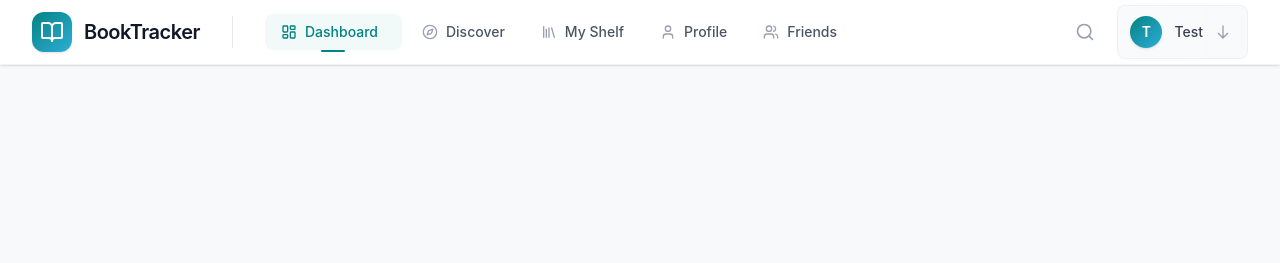
Scenario: Header › when user is authenticated › search functionality › toggles search input when search button is clicked
Click the button named "Toggle search" at (1085, 32), box [1065,12,1105,52]
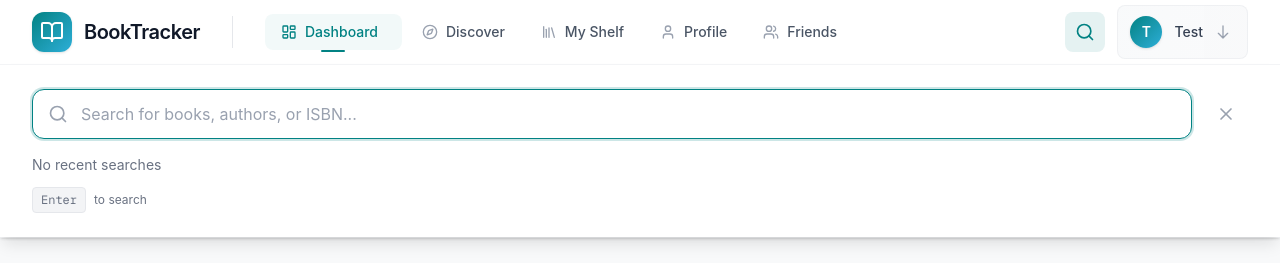
Result: the field with placeholder "Search for books, authors, or ISBN..." is shown at [32,89,1192,139]
